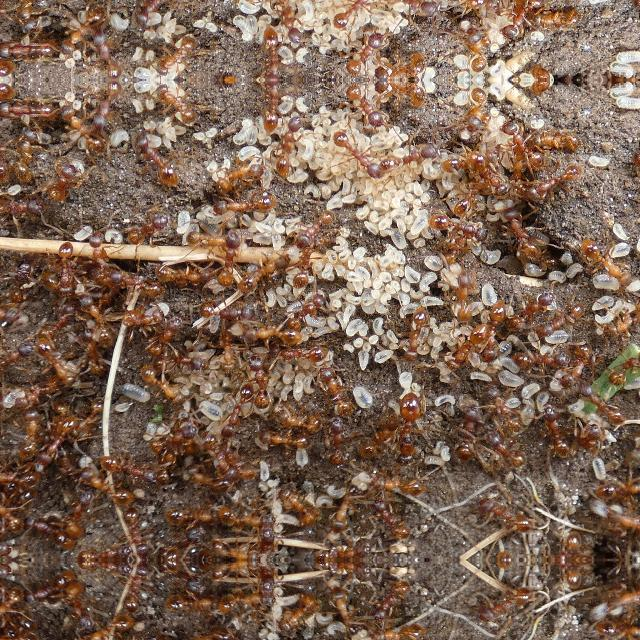Myrmica: (126, 125, 182, 187), (494, 200, 546, 266), (572, 232, 634, 286), (268, 106, 310, 180), (522, 161, 592, 205), (470, 492, 540, 536), (470, 584, 540, 628), (276, 286, 332, 340), (56, 103, 110, 157), (56, 3, 110, 57), (328, 128, 384, 180), (394, 392, 431, 468), (494, 116, 542, 174), (394, 305, 438, 367), (337, 82, 389, 134), (337, 27, 389, 78), (354, 399, 394, 463), (454, 84, 498, 142), (454, 18, 498, 76), (448, 400, 486, 466), (480, 380, 528, 432), (350, 468, 430, 499), (444, 260, 484, 320), (147, 80, 201, 124), (147, 36, 201, 80), (98, 451, 172, 483), (3, 124, 42, 184), (239, 246, 287, 294), (274, 484, 324, 530), (274, 590, 324, 636), (317, 365, 361, 417), (202, 189, 278, 219), (268, 0, 310, 54), (40, 417, 84, 468), (96, 267, 166, 299), (533, 298, 589, 338), (374, 140, 436, 176), (579, 383, 631, 425), (289, 205, 339, 248), (367, 496, 413, 542), (37, 338, 83, 384), (367, 578, 413, 624), (136, 365, 186, 407), (85, 80, 127, 130), (85, 30, 127, 80), (143, 314, 190, 358), (469, 150, 513, 197), (217, 383, 255, 437), (439, 326, 483, 372), (494, 0, 540, 44), (538, 400, 574, 456), (557, 339, 599, 387), (150, 422, 200, 462), (121, 210, 175, 247), (426, 210, 492, 240), (326, 483, 364, 535), (326, 585, 364, 637), (210, 157, 264, 193), (124, 0, 181, 34), (37, 298, 81, 342), (482, 429, 528, 471), (83, 469, 135, 506), (591, 498, 639, 538), (0, 460, 48, 500), (591, 582, 639, 622), (60, 488, 98, 538), (60, 582, 98, 632), (558, 422, 610, 458), (288, 231, 320, 289), (194, 298, 260, 326), (47, 159, 87, 205), (599, 298, 639, 344), (466, 300, 509, 342), (0, 92, 60, 122), (0, 38, 60, 68), (182, 226, 246, 254), (536, 527, 592, 559), (328, 0, 384, 32), (536, 561, 592, 593), (253, 80, 290, 128), (253, 32, 290, 80), (122, 507, 156, 559), (122, 561, 156, 613), (510, 287, 556, 325), (240, 319, 306, 345), (153, 345, 214, 373), (244, 351, 278, 401), (12, 378, 62, 412), (152, 260, 212, 288), (268, 340, 332, 366), (512, 344, 576, 370), (51, 242, 83, 294), (27, 510, 73, 546), (69, 397, 105, 443), (27, 574, 73, 610), (2, 257, 36, 305), (0, 190, 48, 224), (607, 337, 639, 388), (324, 416, 354, 470), (15, 405, 45, 459), (371, 80, 433, 106), (371, 54, 433, 80), (77, 327, 109, 377), (253, 426, 314, 452), (349, 620, 428, 640), (532, 124, 588, 152), (532, 8, 588, 36), (78, 292, 112, 338), (432, 230, 478, 264), (206, 428, 238, 476), (183, 464, 234, 494), (208, 324, 242, 368), (0, 338, 32, 384), (83, 612, 135, 640), (222, 447, 260, 485), (162, 502, 222, 526), (162, 594, 222, 618), (270, 408, 326, 432), (118, 301, 166, 329), (160, 527, 202, 559), (160, 561, 202, 593), (2, 0, 41, 34), (593, 474, 639, 502), (310, 539, 372, 559), (374, 0, 436, 20), (310, 561, 372, 581), (451, 181, 489, 213), (255, 508, 285, 548), (217, 506, 267, 530), (440, 144, 480, 174), (255, 572, 285, 612), (217, 590, 267, 614), (206, 115, 244, 146), (206, 13, 244, 44), (46, 398, 70, 447), (210, 270, 256, 294), (0, 486, 24, 530), (208, 538, 256, 560), (0, 588, 24, 632), (208, 560, 256, 582), (0, 618, 48, 640), (0, 287, 26, 327), (593, 618, 639, 640), (478, 326, 504, 364), (44, 270, 82, 296), (74, 541, 128, 559), (74, 561, 128, 579), (520, 80, 576, 96), (520, 64, 576, 80), (182, 626, 234, 640), (85, 240, 115, 264), (622, 139, 640, 177), (438, 0, 479, 16), (0, 132, 12, 182), (598, 80, 640, 94), (598, 66, 640, 80), (0, 80, 24, 102), (0, 58, 24, 80), (469, 0, 513, 10), (621, 0, 638, 20), (0, 0, 12, 26)
